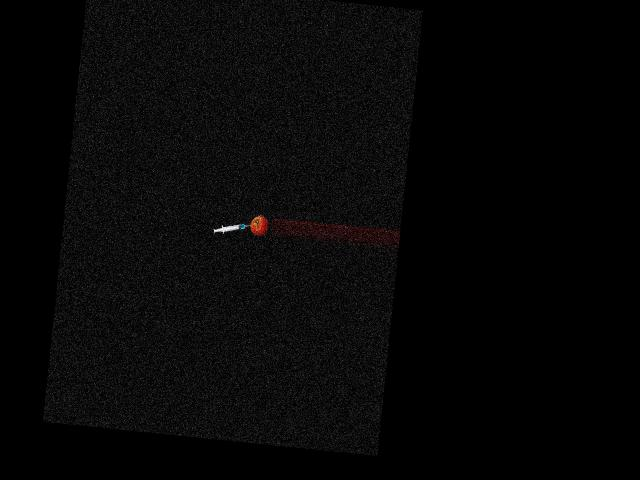tomato: (249, 215, 269, 236)
